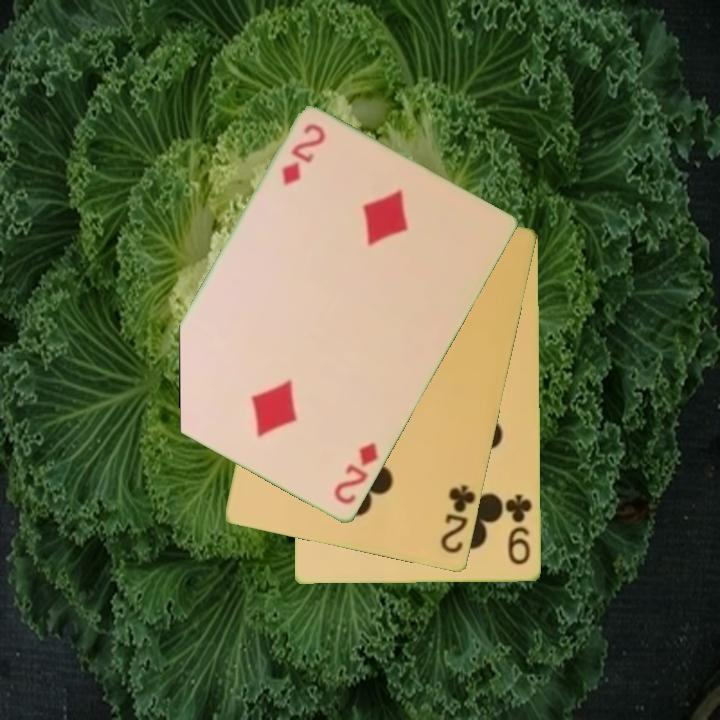2c: (437, 482, 479, 557)
2d: (330, 439, 382, 508), (278, 120, 328, 190)
9c: (503, 491, 535, 568)
